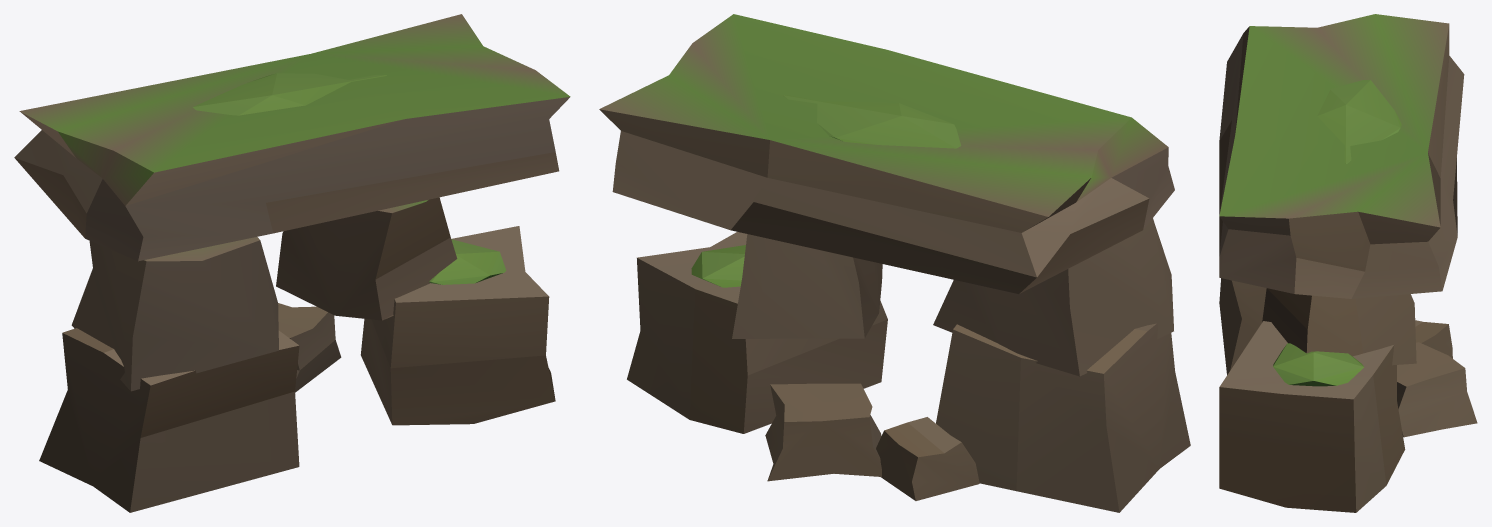
The model's file is cave_rockform_ledge_v3.fbx.
3 renders of one model, left to right at view 1: azimuth 30°, elevation 25°; view 2: azimuth 150°, elevation 25°; view 3: azimuth 270°, elevation 25°, orthographic. The views are drawn at different scales.
Visible parts, largest first — view 1: cave_rockform_ledge_v3; view 2: cave_rockform_ledge_v3; view 3: cave_rockform_ledge_v3.
Boxes of the visible parts, x1,y1,x2,y2 form: cave_rockform_ledge_v3: [14, 14, 570, 512]; cave_rockform_ledge_v3: [599, 14, 1190, 512]; cave_rockform_ledge_v3: [1219, 14, 1477, 512].
Bounding box in the file's own units: 1749 × 1125 × 877.
